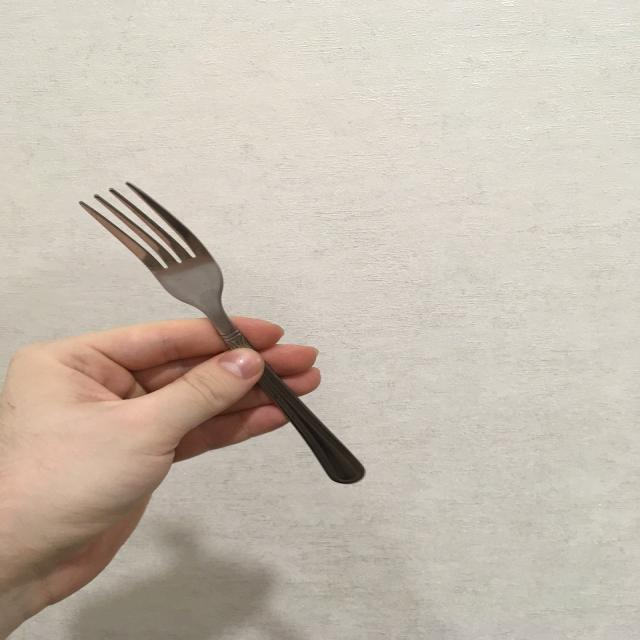fork: (75, 178, 368, 488)
